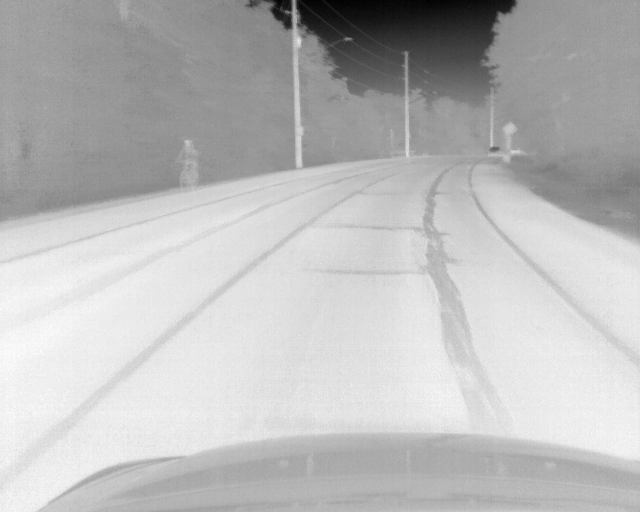bike: (174, 162, 200, 191)
car: (488, 145, 502, 158)
people: (177, 140, 199, 191)
